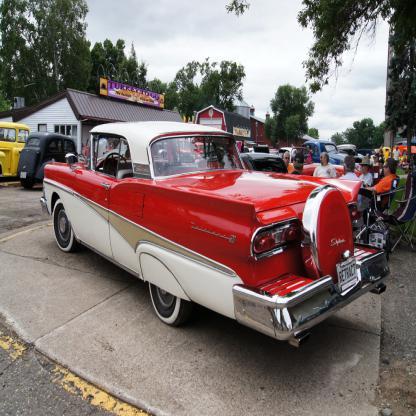Car: (0, 120, 416, 349)
